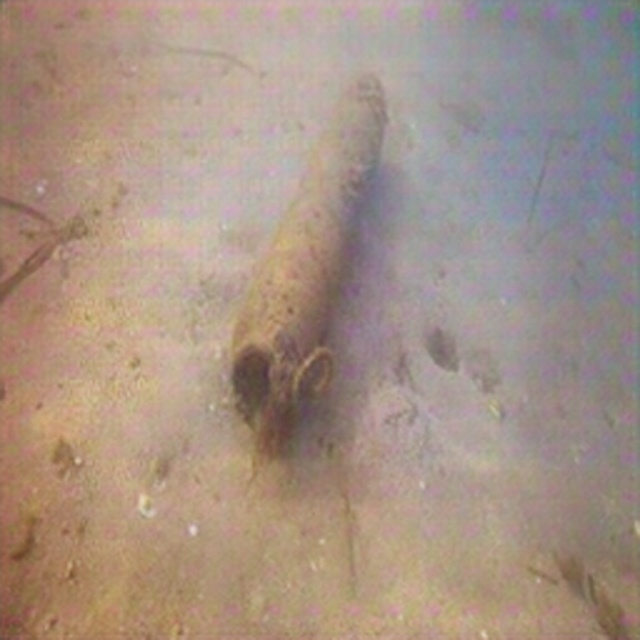mine: (230, 73, 385, 433)
